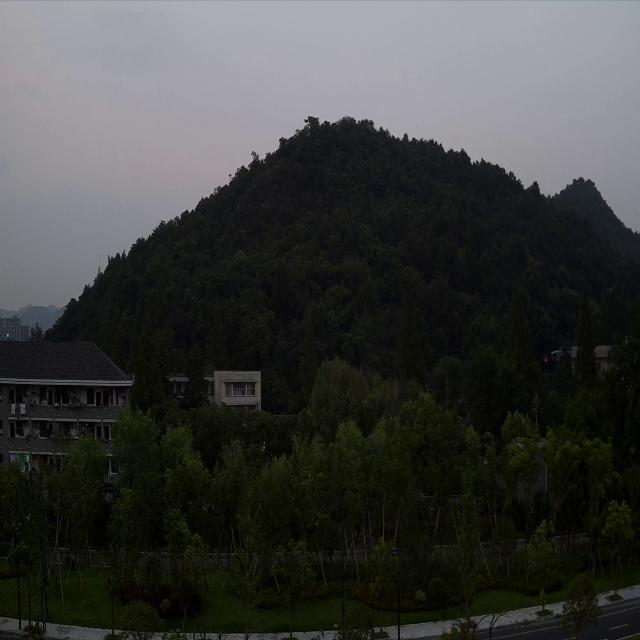UAV: (544, 346, 572, 362)
